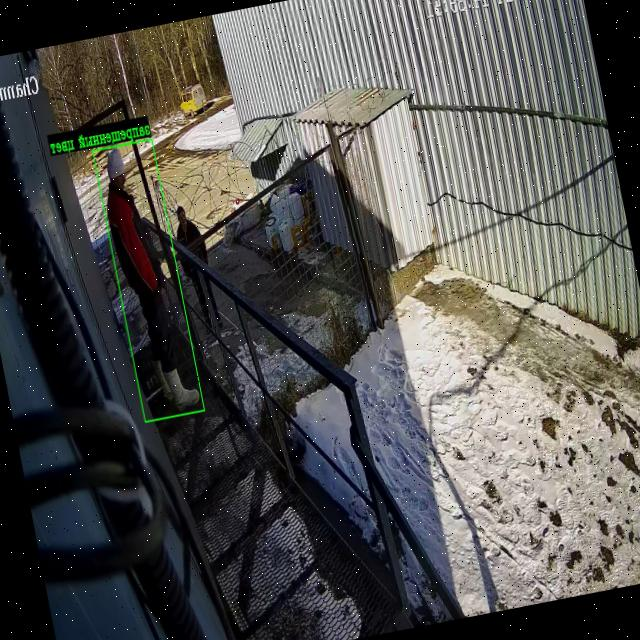Person: (181, 255, 223, 327), (177, 205, 208, 263)
Red uniform: (107, 149, 201, 408)
